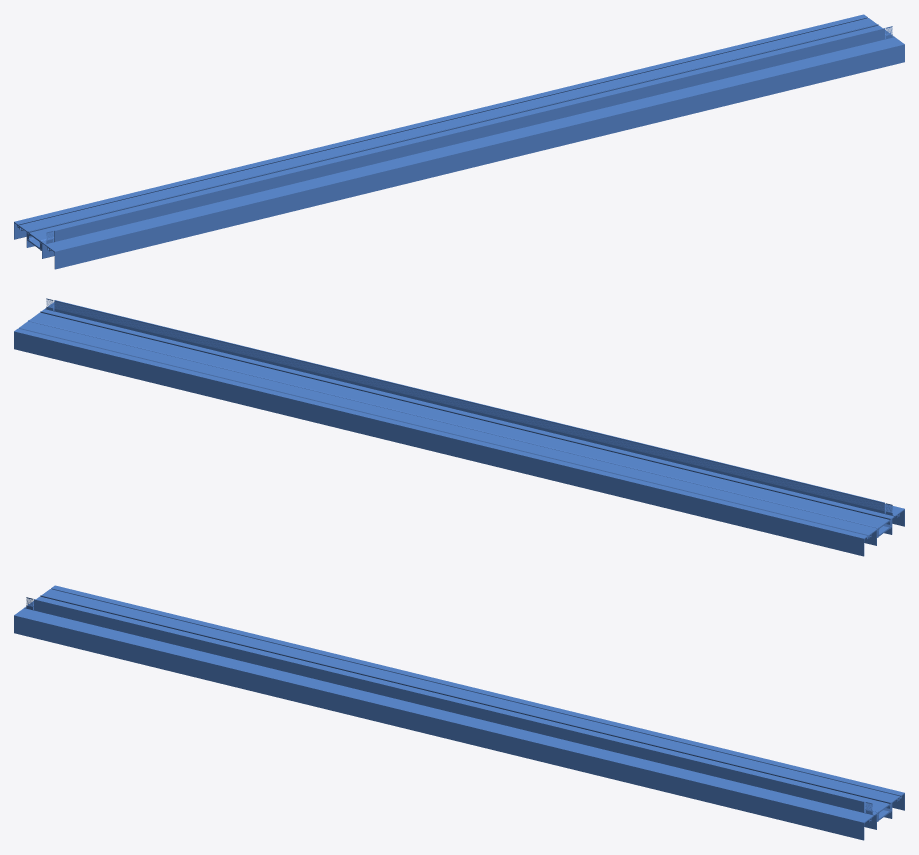
The model's file is front-p1-rcv-b-t02.glb.
The picture shows the model from 3 angles, top to bottom: view 1: azimuth 30°, elevation 25°; view 2: azimuth 150°, elevation 25°; view 3: azimuth 330°, elevation 25°; orthographic projection.
Parts seen in each view (by area): view 1: FRONT P1_RCV_B T02; view 2: FRONT P1_RCV_B T02; view 3: FRONT P1_RCV_B T02.
Boxes of the visible parts, x1,y1,x2,y2 form: FRONT P1_RCV_B T02: [14, 14, 904, 269]; FRONT P1_RCV_B T02: [14, 298, 904, 556]; FRONT P1_RCV_B T02: [14, 585, 904, 840].
Bounding box in the file's own units: 0.05 × 0.00162 × 0.00418.
